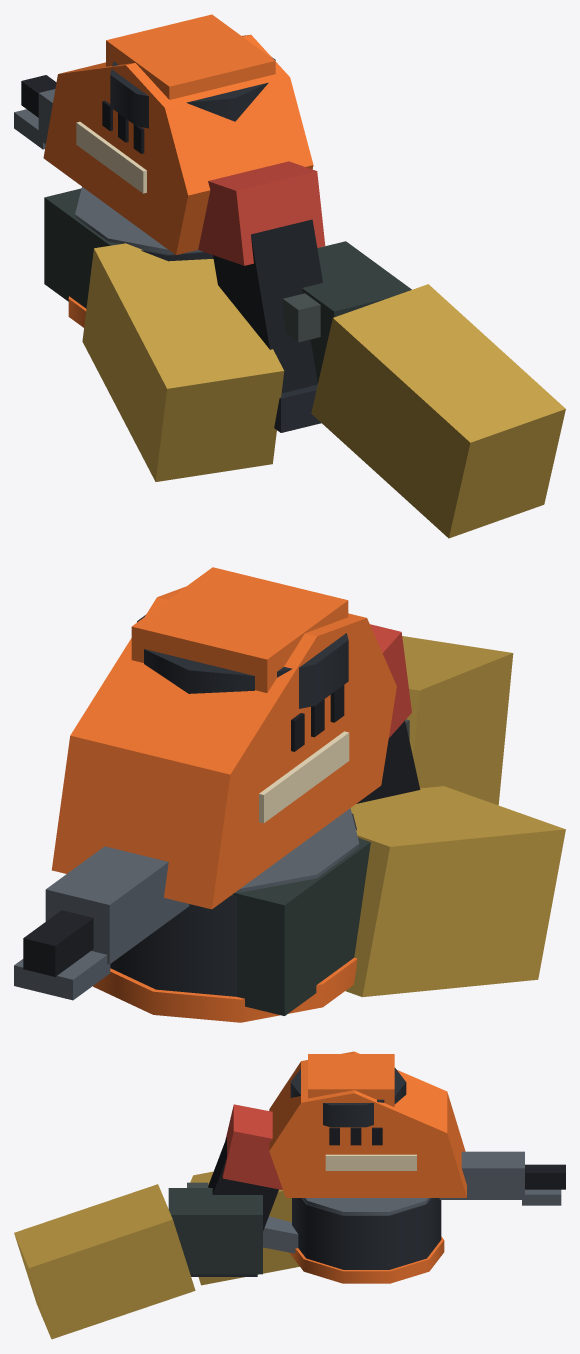
Rendered from nail_driver.glb.
3 views of the same model, one above another, from view 1: azimuth 30°, elevation 25°; view 2: azimuth 150°, elevation 25°; view 3: azimuth 270°, elevation 25° (orthographic). The views are drawn at different scales.
Parts seen in each view (by area): view 1: _MeshInstance3D_3494, _MeshInstance3D_3488, _MeshInstance3D_3468, _MeshInstance3D_3470, _MeshInstance3D_3478, _MeshInstance3D_3471, _MeshInstance3D_3493, _MeshInstance3D_3487, _MeshInstance3D_3469, _MeshInstance3D_3476, _MeshInstance3D_3481, _MeshInstance3D_3497 (+4 smaller); view 2: _MeshInstance3D_3468, _MeshInstance3D_3488, _MeshInstance3D_3478, _MeshInstance3D_3487, _MeshInstance3D_3494, _MeshInstance3D_3472, _MeshInstance3D_3474, _MeshInstance3D_3475, _MeshInstance3D_3469, _MeshInstance3D_3476, _MeshInstance3D_3473, _MeshInstance3D_3481 (+3 smaller); view 3: _MeshInstance3D_3494, _MeshInstance3D_3468, _MeshInstance3D_3474, _MeshInstance3D_3493, _MeshInstance3D_3478, _MeshInstance3D_3471, _MeshInstance3D_3472, _MeshInstance3D_3475, _MeshInstance3D_3469, _MeshInstance3D_3476, _MeshInstance3D_3488, _MeshInstance3D_3481 (+4 smaller).
Boxes of the visible parts, box(x1,y1,x2,y2) form: _MeshInstance3D_3494: box(311, 284, 565, 538); _MeshInstance3D_3488: box(82, 243, 284, 481); _MeshInstance3D_3468: box(43, 34, 313, 254); _MeshInstance3D_3470: box(213, 219, 322, 393); _MeshInstance3D_3478: box(106, 14, 275, 99); _MeshInstance3D_3471: box(198, 161, 325, 265); _MeshInstance3D_3493: box(302, 241, 411, 382); _MeshInstance3D_3487: box(44, 188, 120, 308); _MeshInstance3D_3469: box(110, 57, 275, 128); _MeshInstance3D_3476: box(75, 187, 202, 254); _MeshInstance3D_3481: box(76, 121, 146, 193); _MeshInstance3D_3497: box(283, 293, 320, 342); _MeshInstance3D_3468: box(51, 586, 396, 909); _MeshInstance3D_3488: box(345, 786, 565, 997); _MeshInstance3D_3478: box(131, 567, 348, 692); _MeshInstance3D_3487: box(232, 837, 370, 1015); _MeshInstance3D_3494: box(402, 636, 513, 805); _MeshInstance3D_3472: box(45, 846, 189, 964); _MeshInstance3D_3474: box(110, 813, 356, 996); _MeshInstance3D_3475: box(93, 957, 357, 1022); _MeshInstance3D_3469: box(137, 615, 348, 708); _MeshInstance3D_3476: box(236, 808, 359, 892); _MeshInstance3D_3473: box(23, 910, 93, 976); _MeshInstance3D_3481: box(259, 731, 349, 823); _MeshInstance3D_3494: box(14, 1184, 195, 1339); _MeshInstance3D_3468: box(269, 1051, 466, 1197); _MeshInstance3D_3474: box(292, 1198, 441, 1269); _MeshInstance3D_3493: box(168, 1188, 262, 1274); _MeshInstance3D_3478: box(308, 1054, 394, 1107); _MeshInstance3D_3471: box(222, 1104, 282, 1189); _MeshInstance3D_3472: box(439, 1151, 524, 1199); _MeshInstance3D_3475: box(289, 1236, 444, 1283); _MeshInstance3D_3469: box(290, 1068, 406, 1127); _MeshInstance3D_3476: box(303, 1198, 430, 1215); _MeshInstance3D_3488: box(190, 1171, 299, 1285); _MeshInstance3D_3481: box(325, 1154, 416, 1170).
Bounding box in the file's own units: 0.1445 × 0.1617 × 0.3627.
